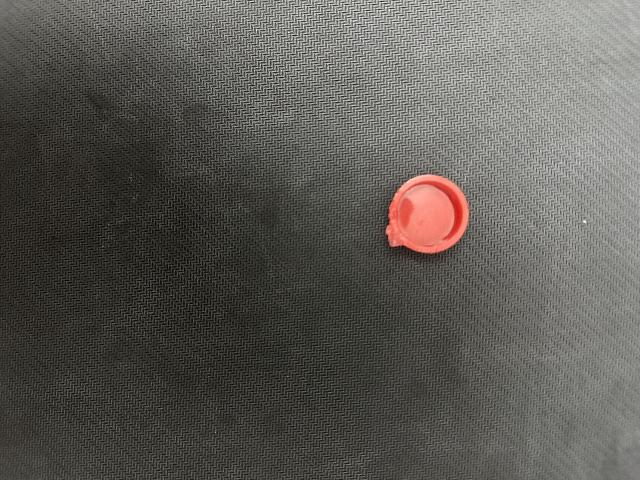Plastik: (379, 171, 484, 259)
